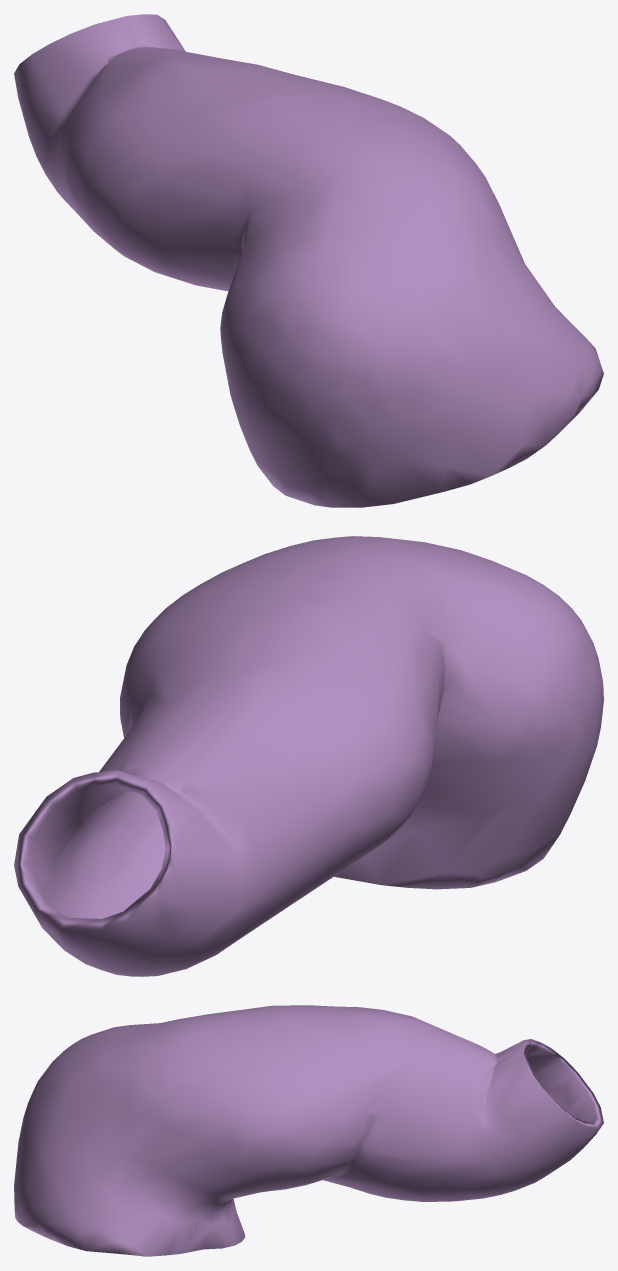
The picture shows the model from 3 angles, top to bottom: view 1: azimuth 30°, elevation 25°; view 2: azimuth 150°, elevation 25°; view 3: azimuth 270°, elevation 25°; orthographic projection. The views are drawn at different scales.
Visible parts, largest first — view 1: 乙状结肠; view 2: 乙状结肠; view 3: 乙状结肠.
Part boxes in pixels (x1=…): 乙状结肠: x1=14, y1=14, x2=603, y2=507; 乙状结肠: x1=14, y1=536, x2=603, y2=976; 乙状结肠: x1=14, y1=1005, x2=603, y2=1256.
Bounding box in the file's own units: 0.0907 × 0.0728 × 0.1807.
